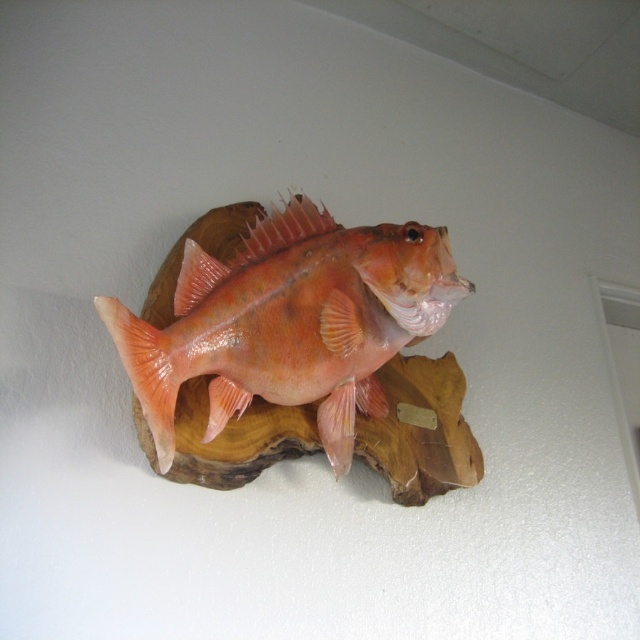Fish: (99, 205, 481, 490)
